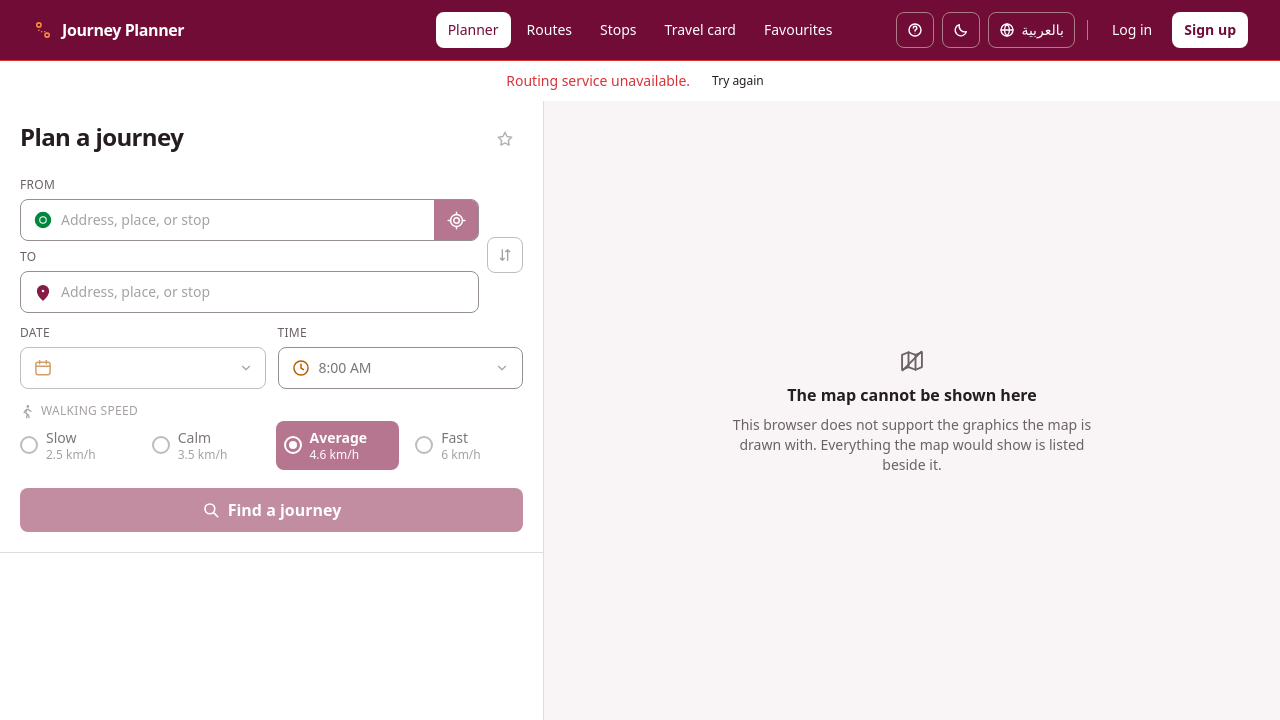
Test case: auth › stays open and says so when the password is wrong
The width and height of the screenshot is (1280, 720).
Click the button "Log in" at (1132, 30), box x1=1100 y1=12 x2=1164 y2=48
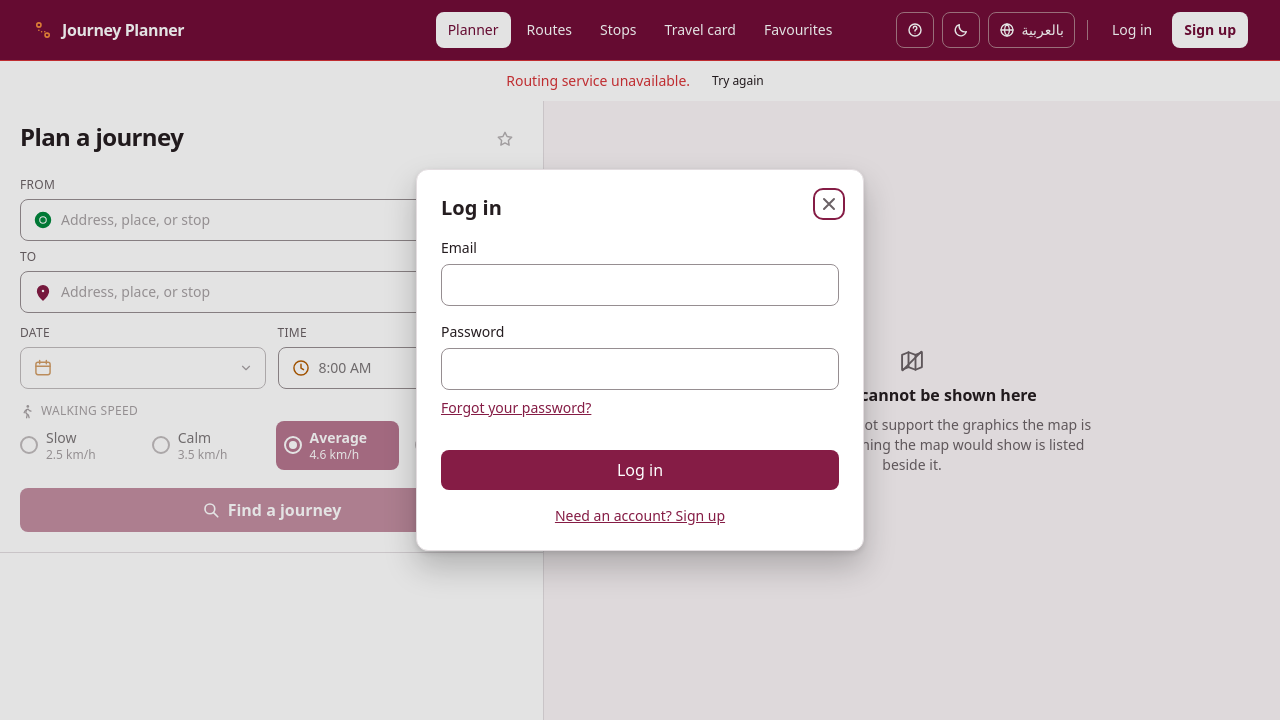
Type "rider@example.com" into the field labelled "Email" at (640, 285), box x1=441 y1=264 x2=839 y2=306
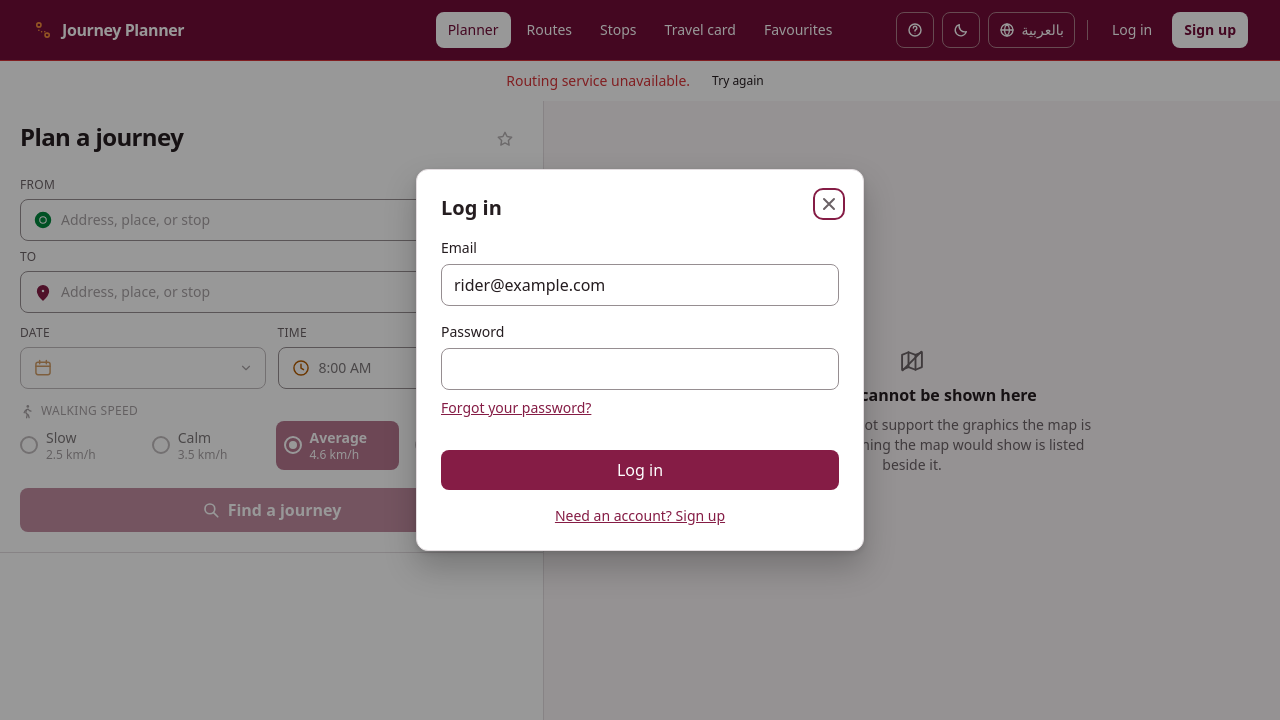
Type "a-real-password" into the password field labelled "Password" at (640, 369), box x1=441 y1=348 x2=839 y2=390
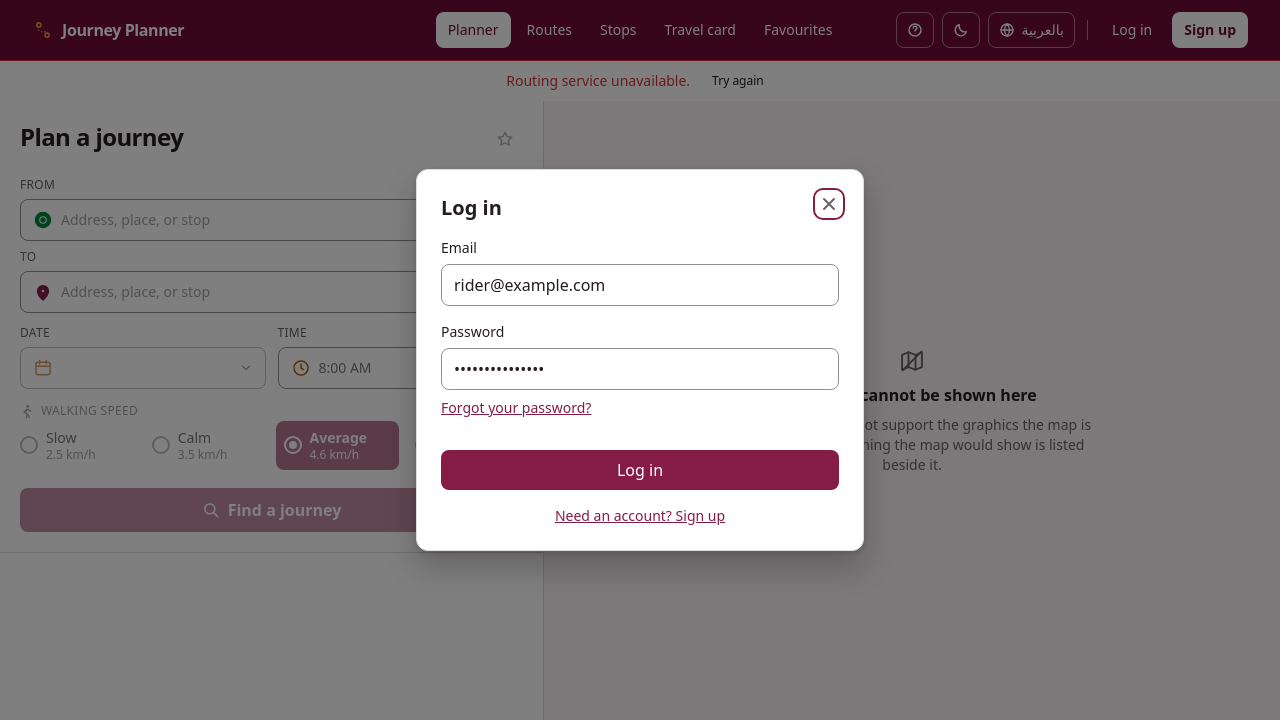
Submit the form from the button "Log in", box x1=441 y1=450 x2=839 y2=490
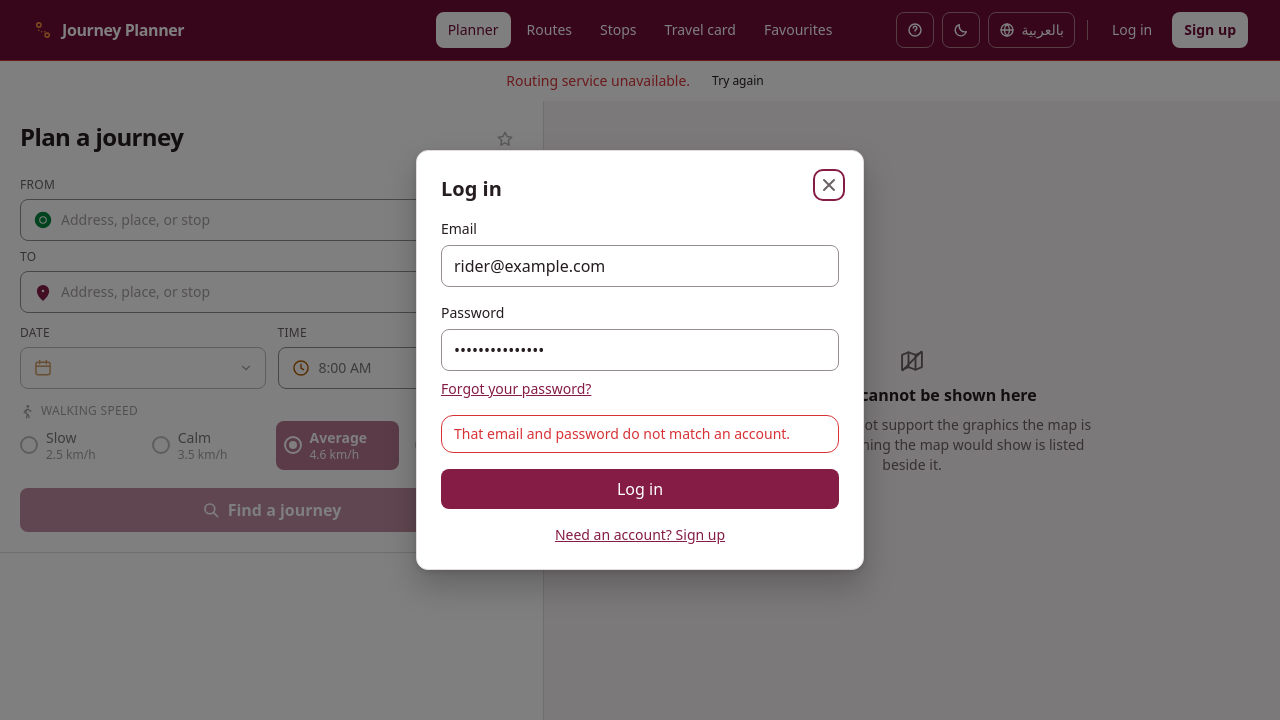
Check: the dialog is shown, box x1=416 y1=150 x2=864 y2=570
Check: the text "That email and password do not match an account." is shown, box x1=441 y1=415 x2=839 y2=453
